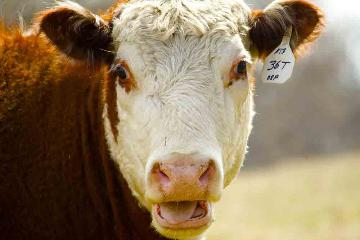cow: (38, 2, 275, 240)
